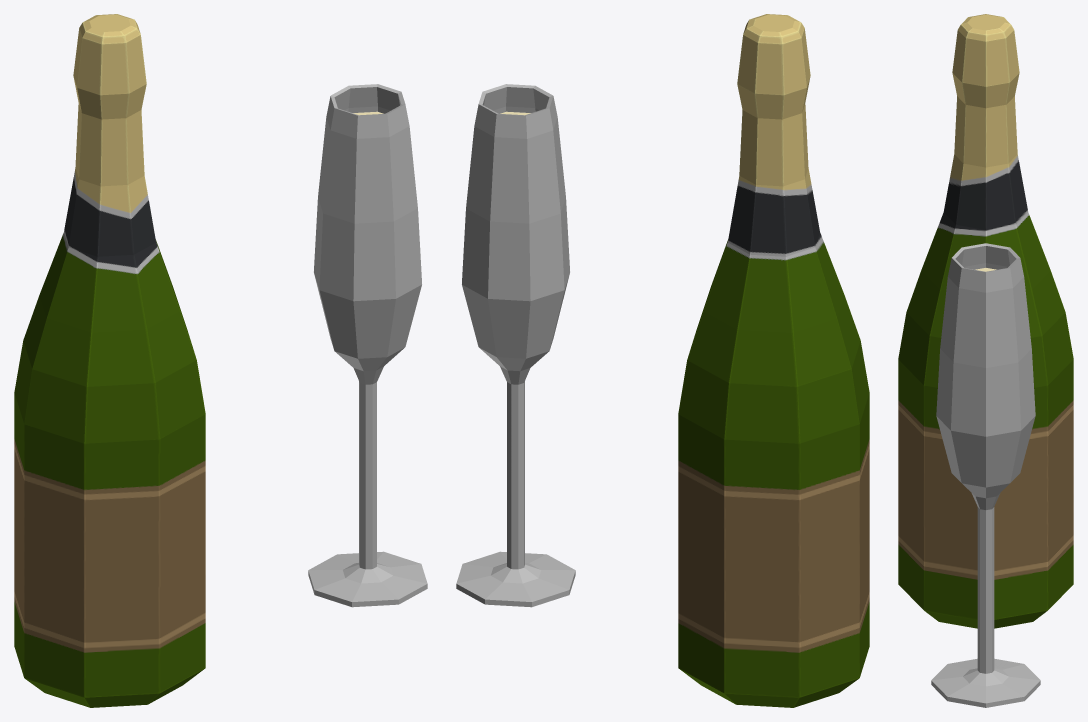
3 views of the same model, side by side, from view 1: azimuth 30°, elevation 25°; view 2: azimuth 150°, elevation 25°; view 3: azimuth 270°, elevation 25° (orthographic). The views are drawn at different scales.
Visible parts, largest first — view 1: Champagne_mesh; view 2: Champagne_mesh; view 3: Champagne_mesh.
Part boxes in pixels (x1,y1,x2,y2): Champagne_mesh: (14, 14, 427, 707); Champagne_mesh: (456, 14, 869, 707); Champagne_mesh: (898, 14, 1073, 707).
Bounding box in the file's own units: 7.43 × 11.69 × 3.21.
2 materials, 1 textured.
